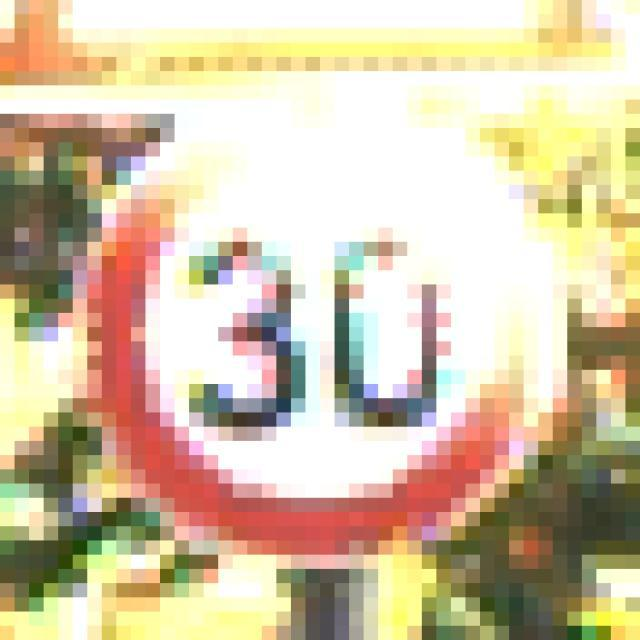Speed Limit -30-: (66, 78, 546, 548)
